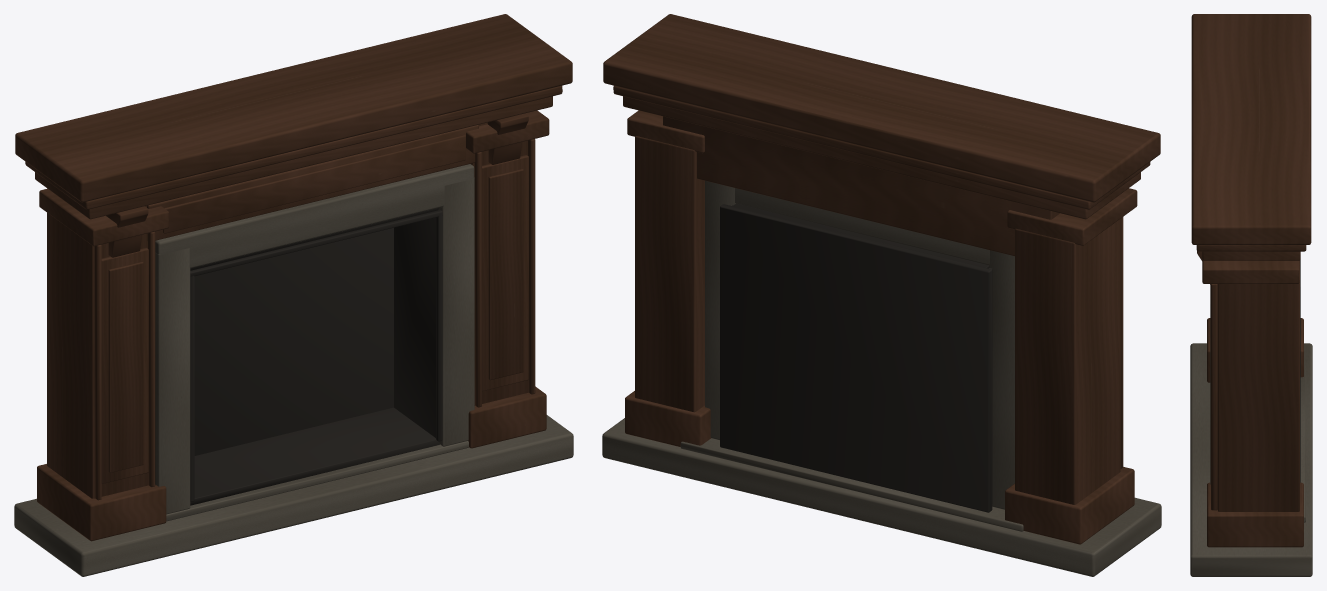
Rendered from victorian_fireplace.glb.
3 views of the same model, side by side, from view 1: azimuth 30°, elevation 25°; view 2: azimuth 150°, elevation 25°; view 3: azimuth 270°, elevation 25° (orthographic). The views are drawn at different scales.
Visible parts, largest first — view 1: Victorian_Fireplace; view 2: Victorian_Fireplace; view 3: Victorian_Fireplace.
Boxes of the visible parts, x1,y1,x2,y2 form: Victorian_Fireplace: (14, 14, 573, 576); Victorian_Fireplace: (602, 14, 1161, 576); Victorian_Fireplace: (1190, 14, 1312, 576).
Size of the model in its own units: 1.9 by 1.46 by 0.46.
3 materials, 2 textured.
